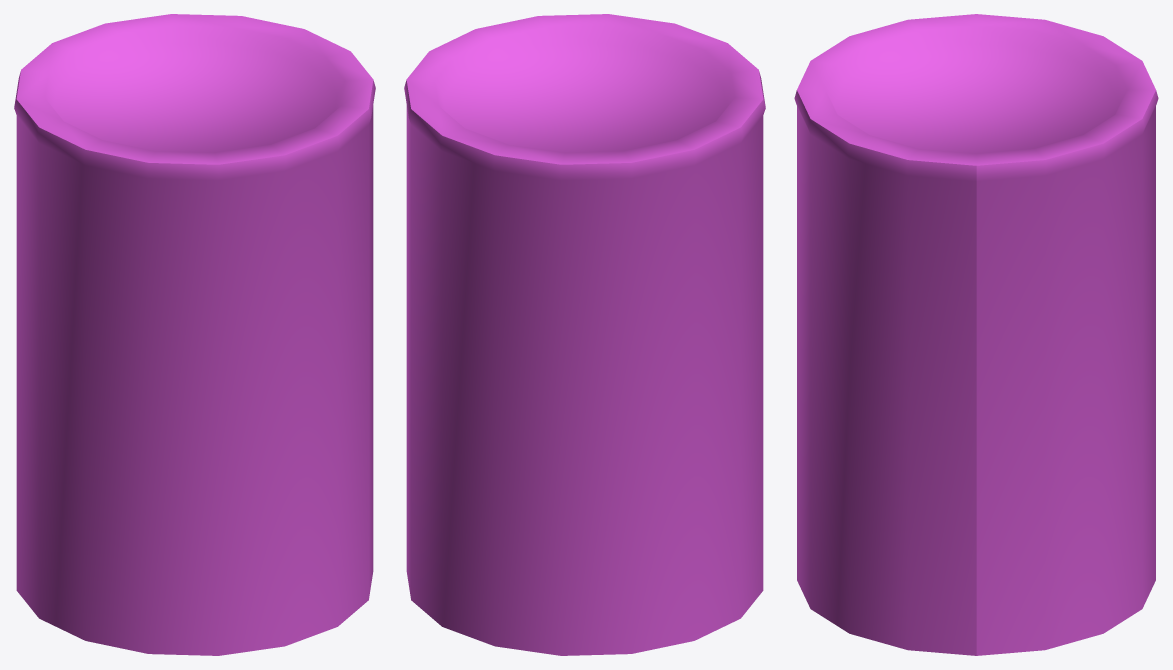
The model's file is Can_Prop.fbx.
The picture shows the model from 3 angles, left to right: view 1: azimuth 30°, elevation 25°; view 2: azimuth 150°, elevation 25°; view 3: azimuth 270°, elevation 25°; orthographic projection.
Visible parts, largest first — view 1: Can_mesh; view 2: Can_mesh; view 3: Can_mesh.
Boxes of the visible parts, <box> form: Can_mesh: <box>14,14,375,655</box>; Can_mesh: <box>404,14,765,655</box>; Can_mesh: <box>794,14,1158,655</box>.
Bounding box in the file's own units: 126 × 187 × 126.
